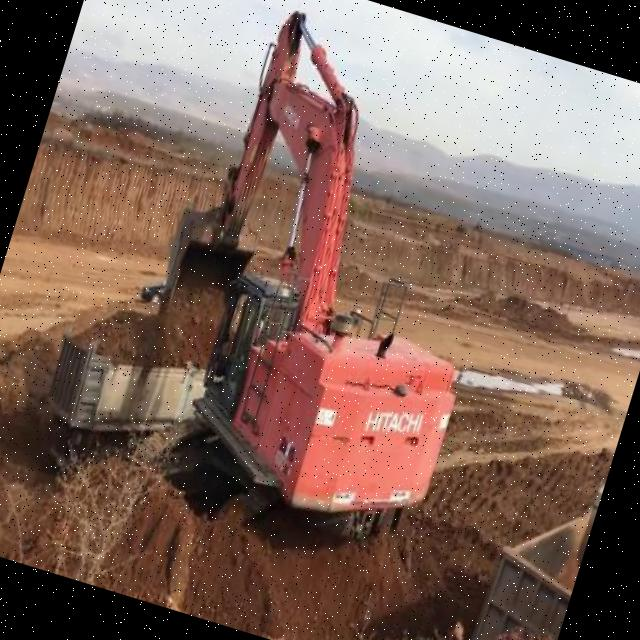Dump Truck: (452, 448, 607, 640), (31, 317, 215, 478)
Excavator: (95, 0, 550, 584)
